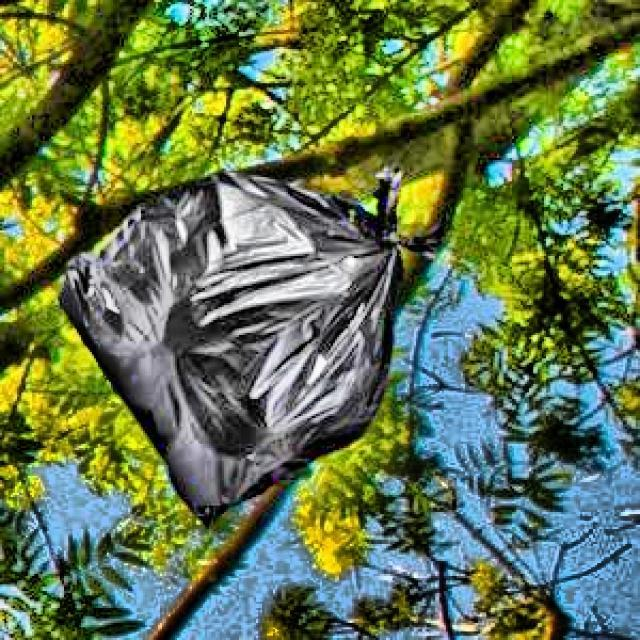Trashbag: (54, 153, 456, 535)
